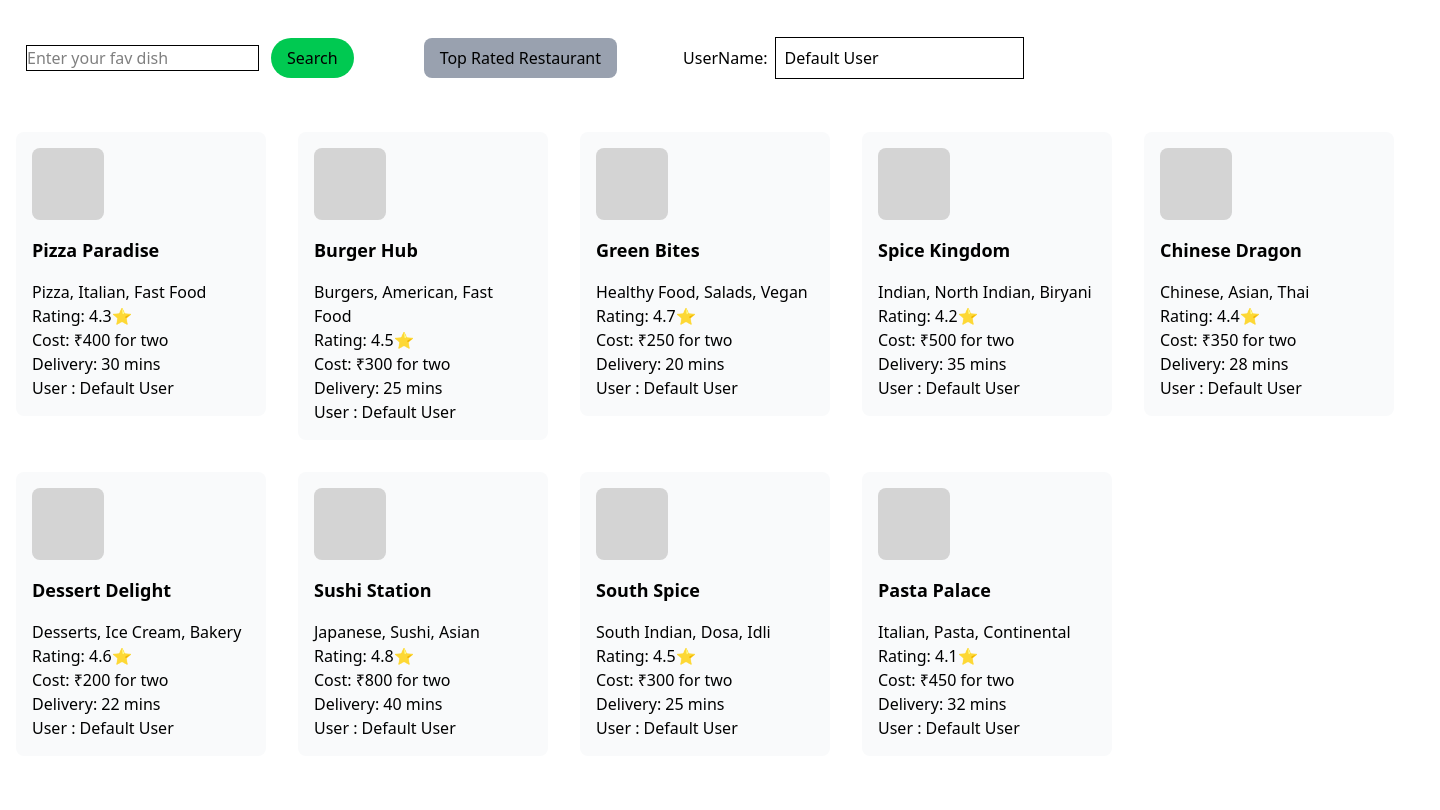
Test: Should Search Res List for burger text input
# what we type here, inside the input box
Type "burger" into the field with test id "searchInput" at (142, 58), box [26,45,259,71]
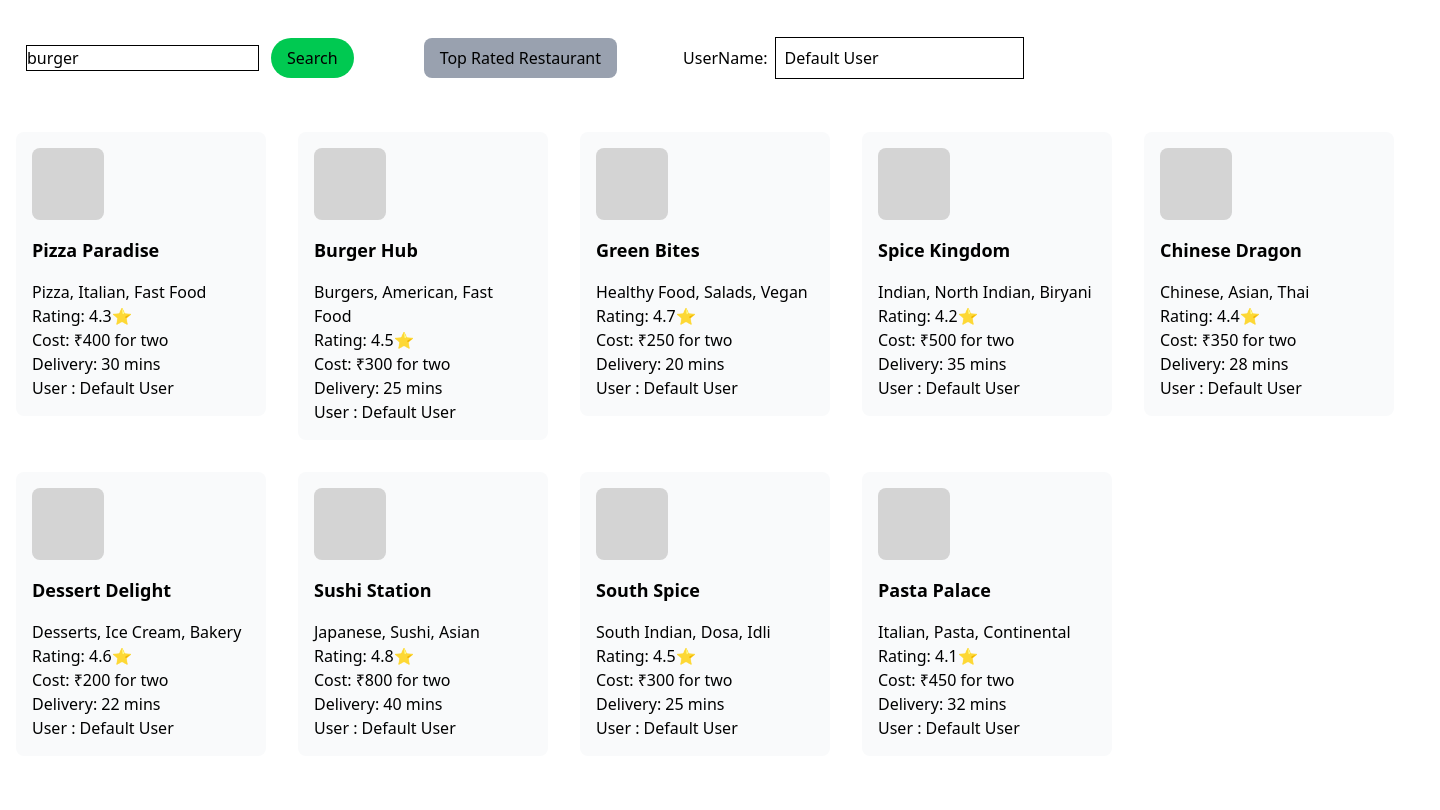
# click the search
Click the button "Search" at (312, 58), box [271,38,354,78]
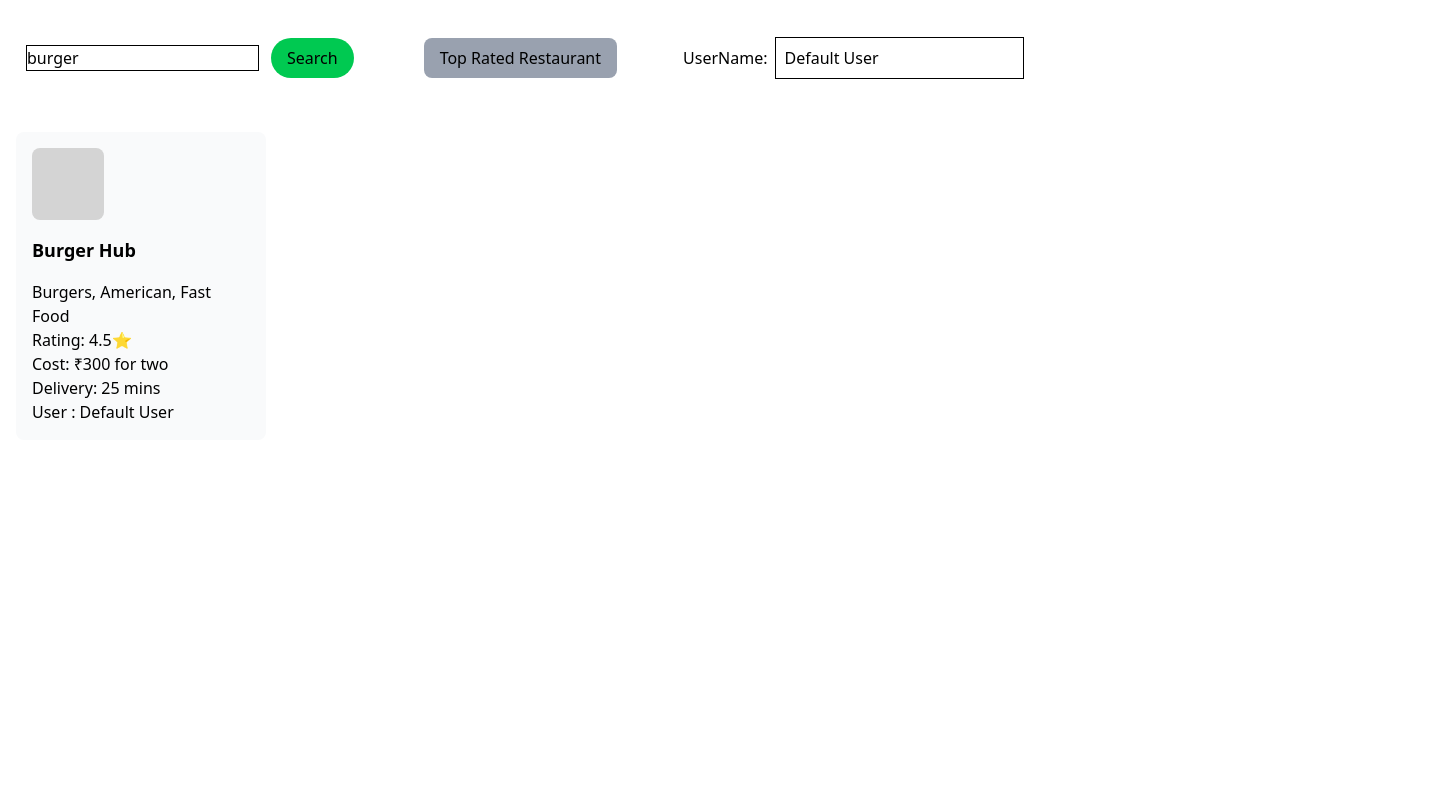
Result: the number of elements with test id "resCard" is 1 at [16,132,266,440]
